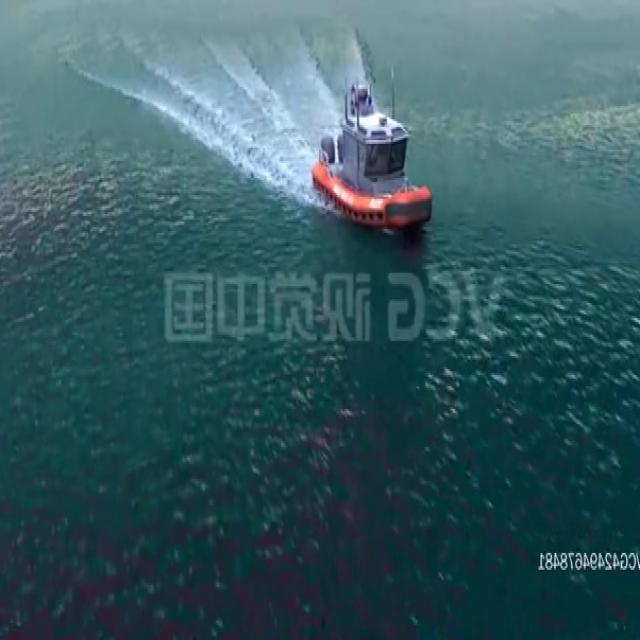houseboat: (313, 78, 437, 223)
